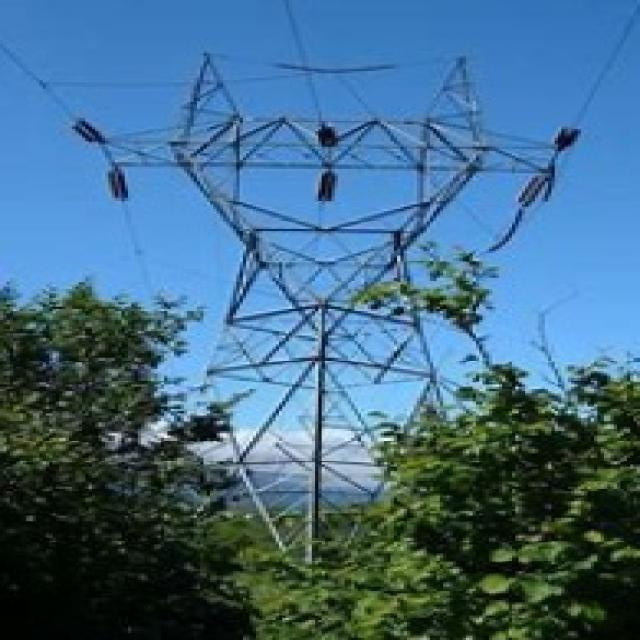utility poles: (342, 266, 560, 452), (114, 288, 280, 497)
